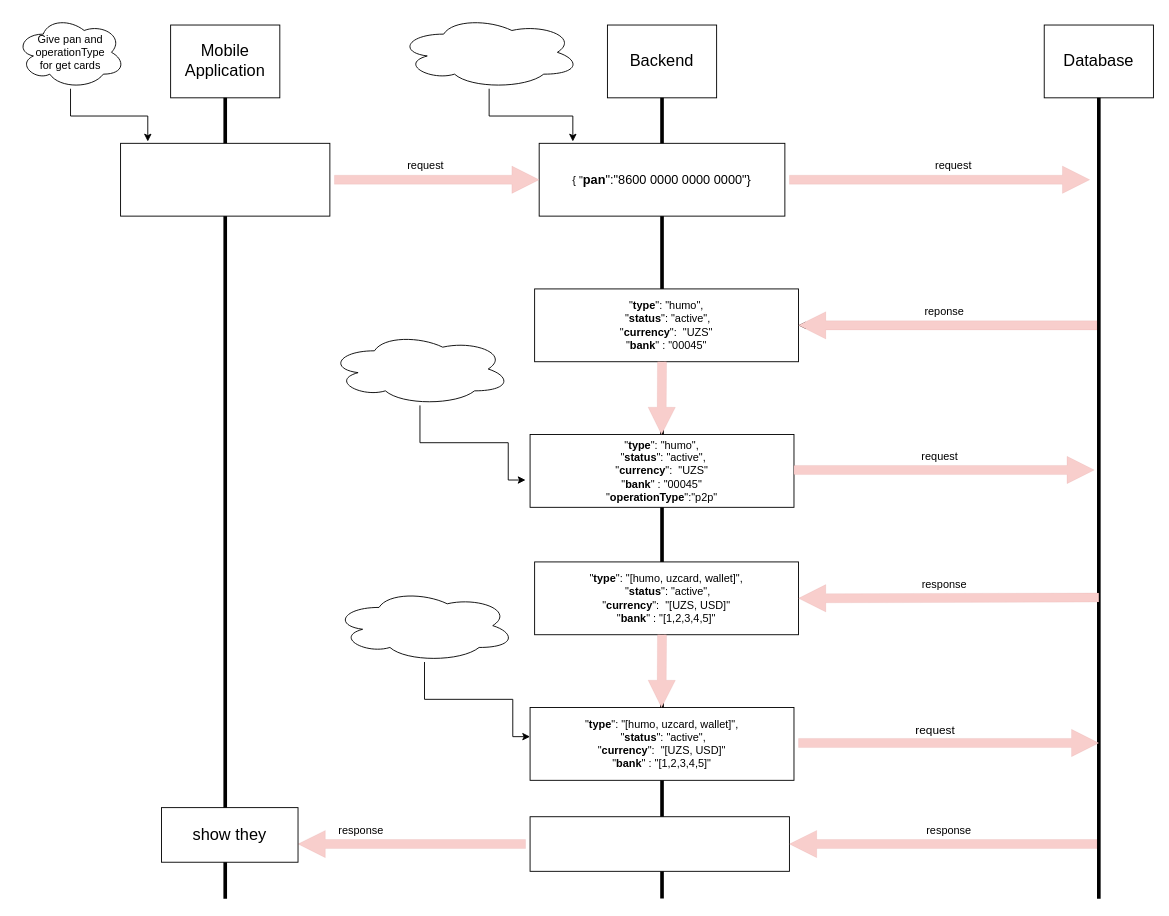
Some shapes in this 1169 by 916 pixel diagram are drawn without their labels. The centre of each missing label's shape, as x and y in pixels:
get card(account, wallet) info by pan: (488,52)
get cards: (659,843)
get cards (wallet, account) by criteria: (424,625)
get criteria for this card (account, wallet): (419,368)
{ " pan ":"8600 0000 0000 0000", " operationType ":"p2p(conversion)"}: (225,179)
